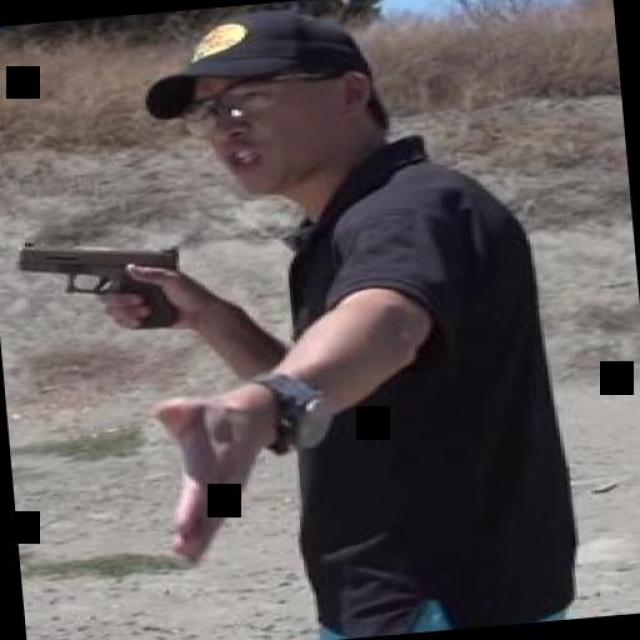gun: (9, 230, 192, 340)
